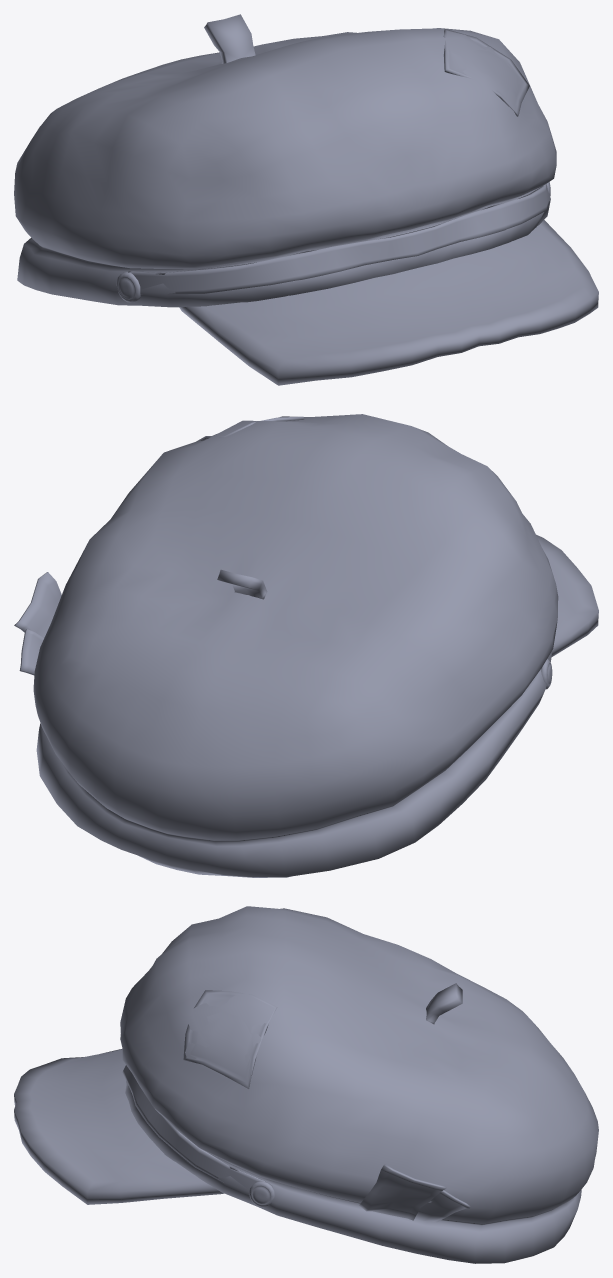
Rendered from uploads_files_5146160_peaked_cap_1.fbx.
3 views of the same model, one above another, from view 1: azimuth 30°, elevation 25°; view 2: azimuth 150°, elevation 25°; view 3: azimuth 270°, elevation 25° (orthographic). The views are drawn at different scales.
Visible parts, largest first — view 1: peaked_cap, peaked_cap_patch; view 2: peaked_cap, peaked_cap_detail; view 3: peaked_cap, peaked_cap_patch, peaked_cap_detail.
Part boxes in pixels (x1,y1,x2,y2): peaked_cap: (14, 14, 598, 385); peaked_cap_patch: (443, 29, 529, 116); peaked_cap: (33, 414, 598, 877); peaked_cap_detail: (14, 572, 61, 675); peaked_cap: (14, 906, 598, 1263); peaked_cap_patch: (183, 990, 277, 1088); peaked_cap_detail: (359, 1164, 470, 1222).
Size of the model in its own units: 19 by 12.29 by 23.84.
